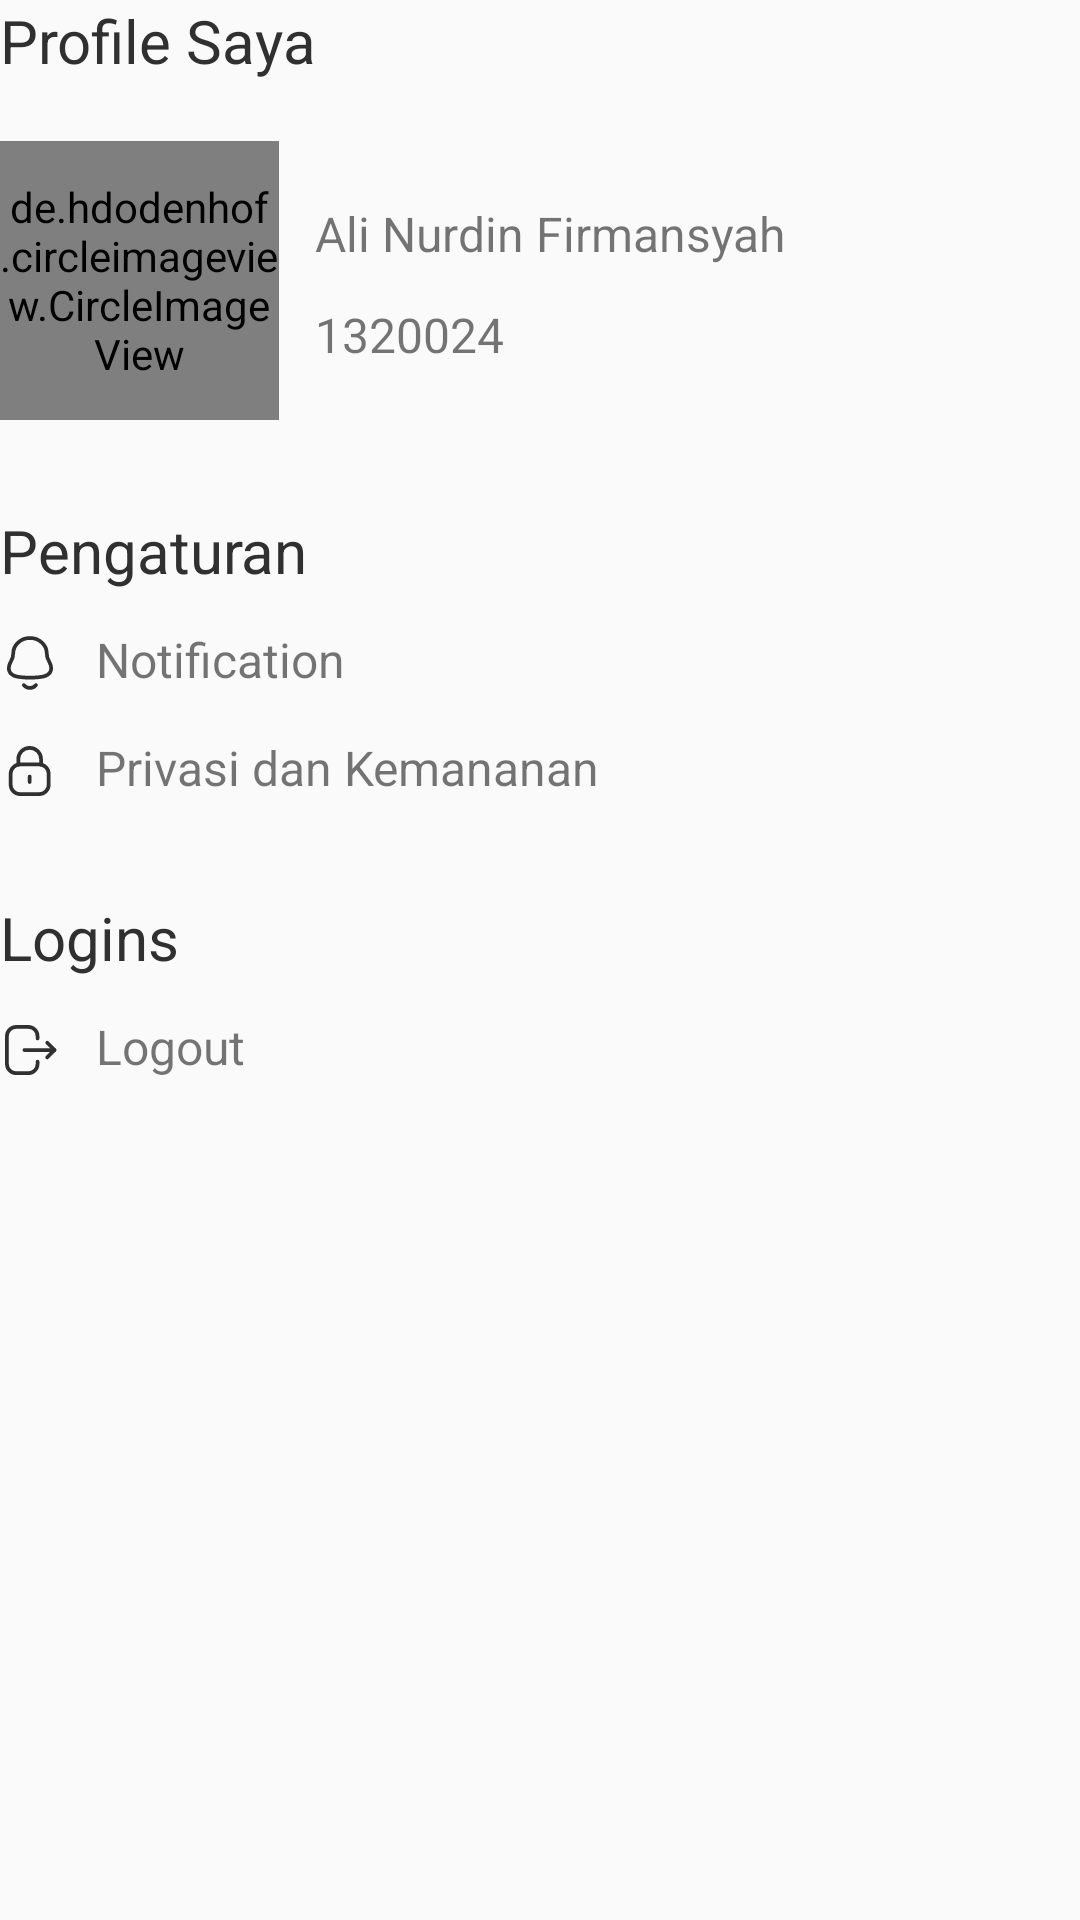

Named icons in this screenshot (1080 x 1920) and their bounding boxes, (x1, y1, x2, y2):
lock: (8, 746, 51, 796)
